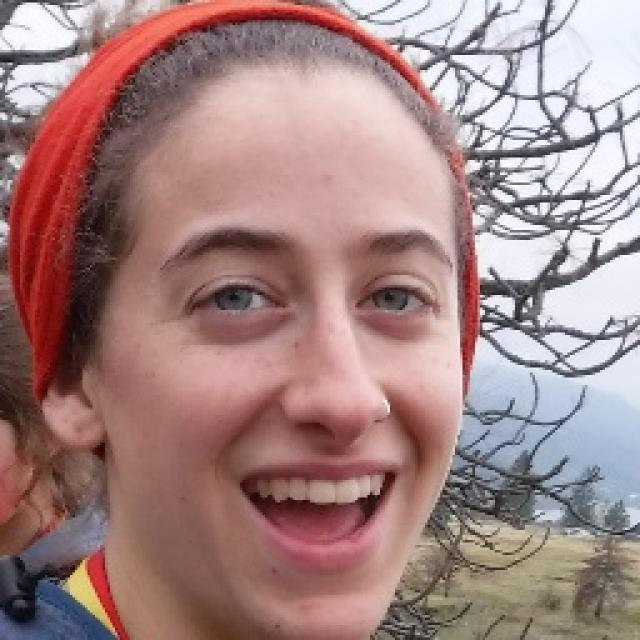earlobe: (56, 396, 108, 451)
eye: (189, 284, 283, 316), (353, 285, 433, 317)
nose: (276, 414, 412, 492)
